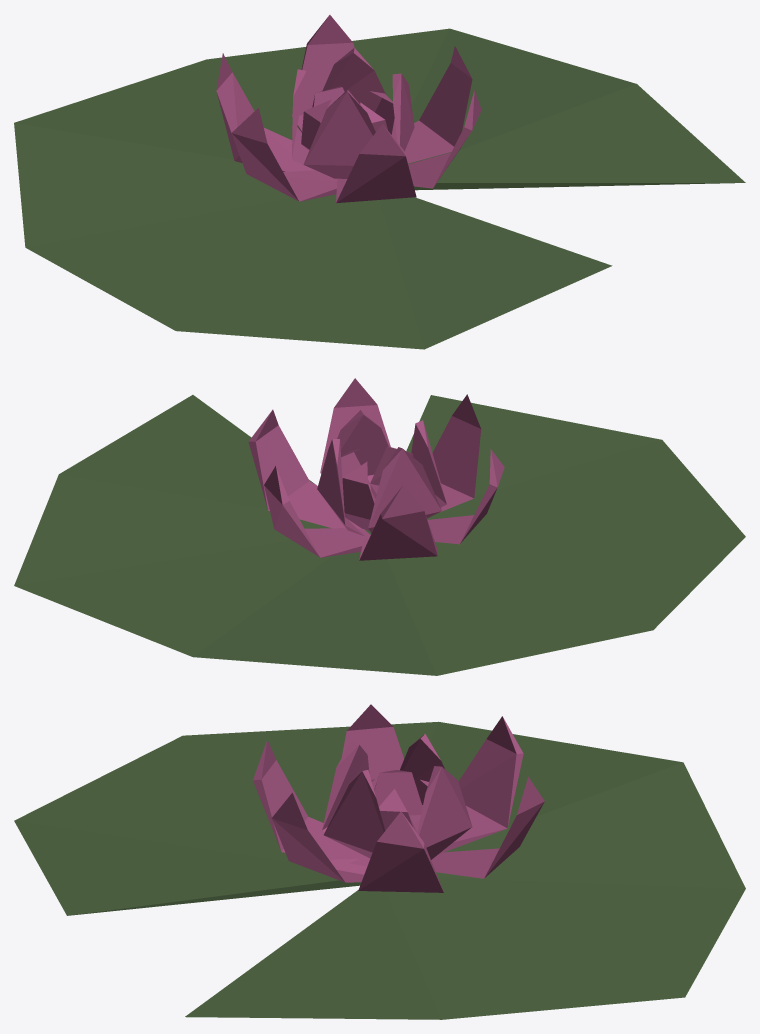
File: plant_lilypad_1.glb
3 views of the same model, one above another, from view 1: azimuth 30°, elevation 25°; view 2: azimuth 150°, elevation 25°; view 3: azimuth 270°, elevation 25° (orthographic). The views are drawn at different scales.
Visible parts, largest first — view 1: plant_lilypad_1; view 2: plant_lilypad_1; view 3: plant_lilypad_1.
Boxes of the visible parts, x1=… form: plant_lilypad_1: x1=14, y1=15, x2=745, y2=349; plant_lilypad_1: x1=14, y1=378, x2=745, y2=675; plant_lilypad_1: x1=14, y1=704, x2=745, y2=1019.
Bounding box in the file's own units: 1.1 × 0.2029 × 1.09.
